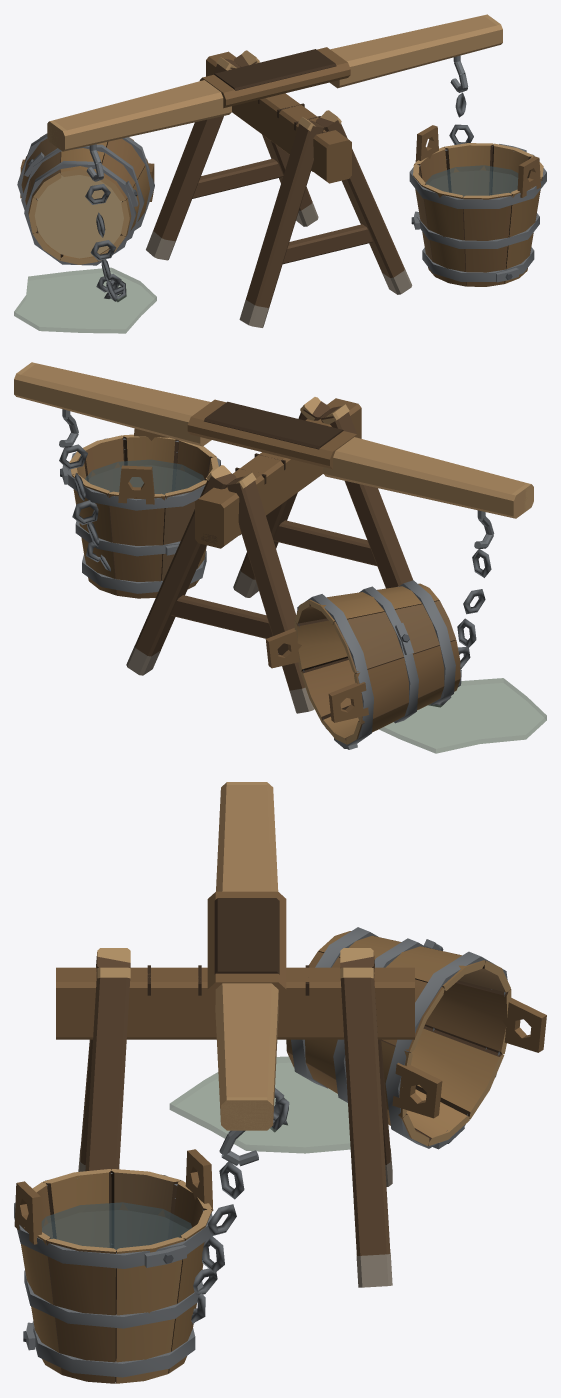
File: SM_LPD_Crate_WaterYokeRest_01.fbx
3 views of the same model, one above another, from view 1: azimuth 30°, elevation 25°; view 2: azimuth 150°, elevation 25°; view 3: azimuth 270°, elevation 25° (orthographic). The views are drawn at different scales.
Visible parts, largest first — view 1: SM_LPD_Crate_WaterYokeRest_01; view 2: SM_LPD_Crate_WaterYokeRest_01; view 3: SM_LPD_Crate_WaterYokeRest_01.
Boxes of the visible parts, left/top/right/bottom form: SM_LPD_Crate_WaterYokeRest_01: left=14, top=14, right=546, bottom=333; SM_LPD_Crate_WaterYokeRest_01: left=14, top=362, right=546, bottom=753; SM_LPD_Crate_WaterYokeRest_01: left=14, top=782, right=546, bottom=1383.
Size of the model in its own units: 1.37 by 0.576 by 0.9207.
